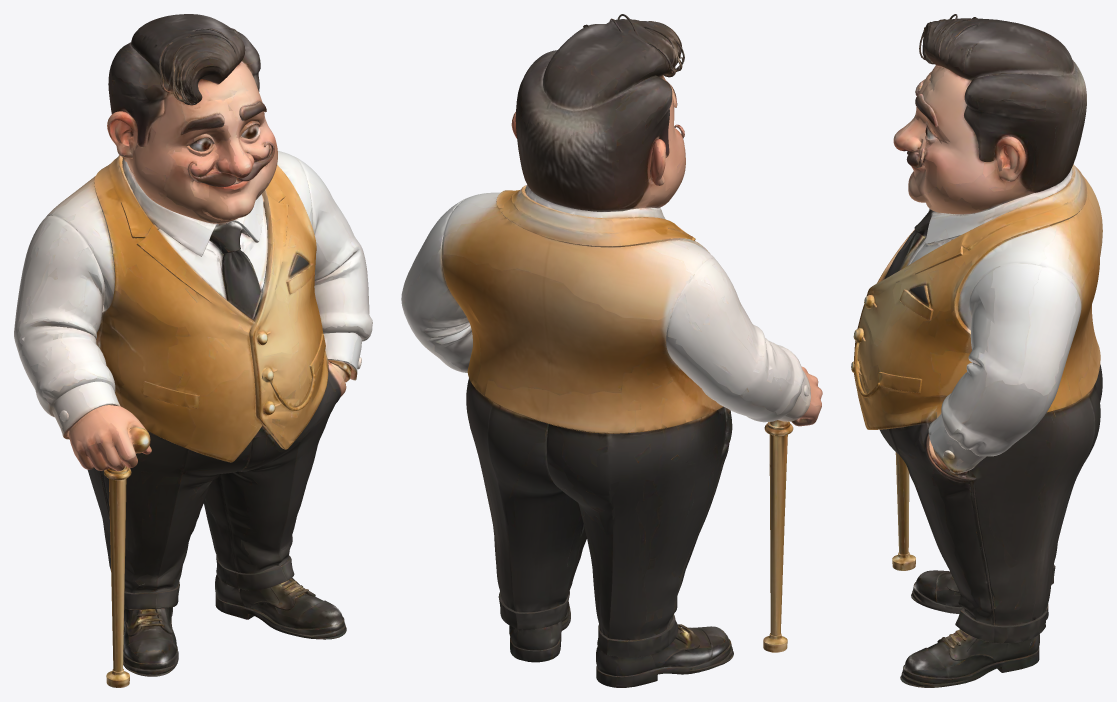
Rendered from boss.glb.
3 renders of one model, left to right at view 1: azimuth 30°, elevation 25°; view 2: azimuth 150°, elevation 25°; view 3: azimuth 270°, elevation 25°, orthographic. The views are drawn at different scales.
Visible parts, largest first — view 1: geometry_0; view 2: geometry_0; view 3: geometry_0.
Part boxes in pixels (left/top/right/bottom): geometry_0: left=14, top=14, right=372, bottom=687; geometry_0: left=401, top=14, right=822, bottom=687; geometry_0: left=851, top=14, right=1102, bottom=687.
Bounding box in the file's own units: 0.6524 × 1.09 × 0.4093.
Materials: 1 (1 with a texture image).
